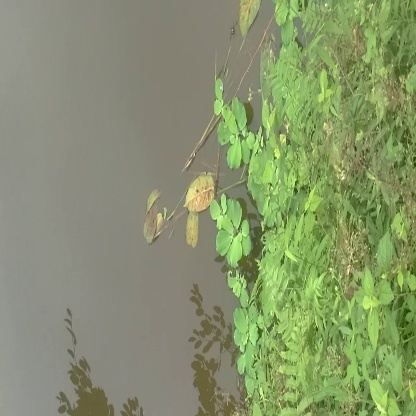leaf: (182, 167, 216, 213)
